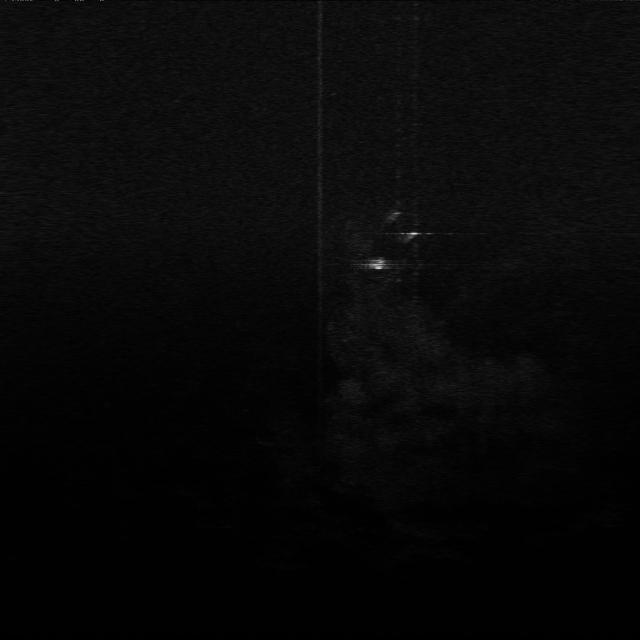rov: (364, 254, 394, 274)
